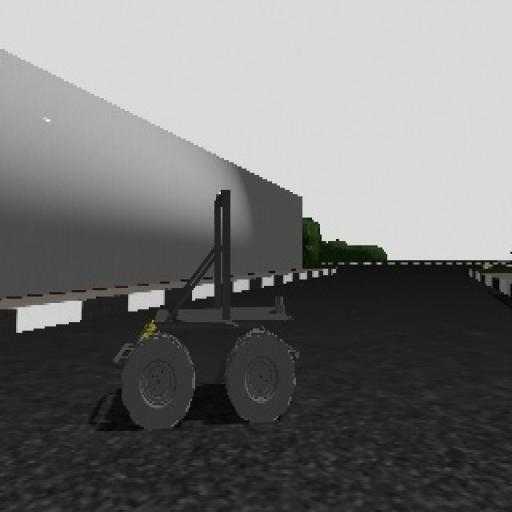huskya200: (105, 182, 312, 440)
